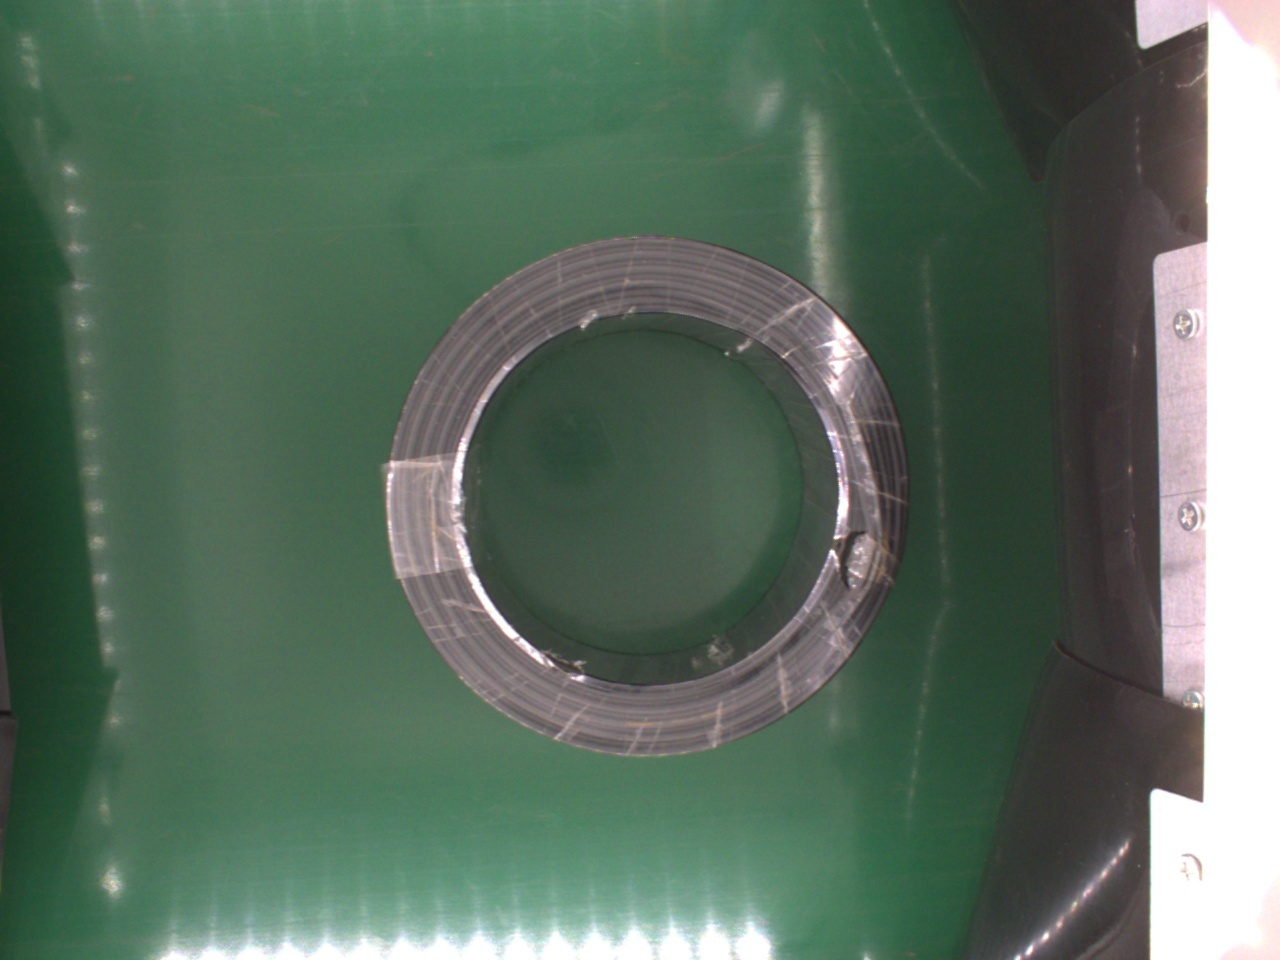black: (384, 235, 910, 759)
